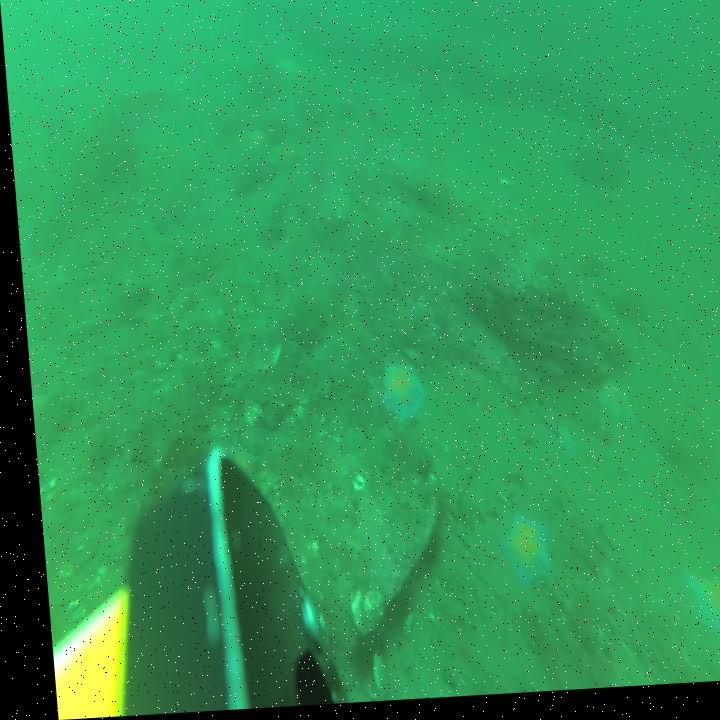holothurian: (250, 470, 279, 552)
scallop: (352, 655, 378, 704)
starfish: (675, 575, 720, 673), (491, 517, 542, 595), (373, 367, 420, 429), (586, 382, 629, 439), (218, 445, 253, 500), (242, 132, 266, 164), (272, 144, 298, 172)
